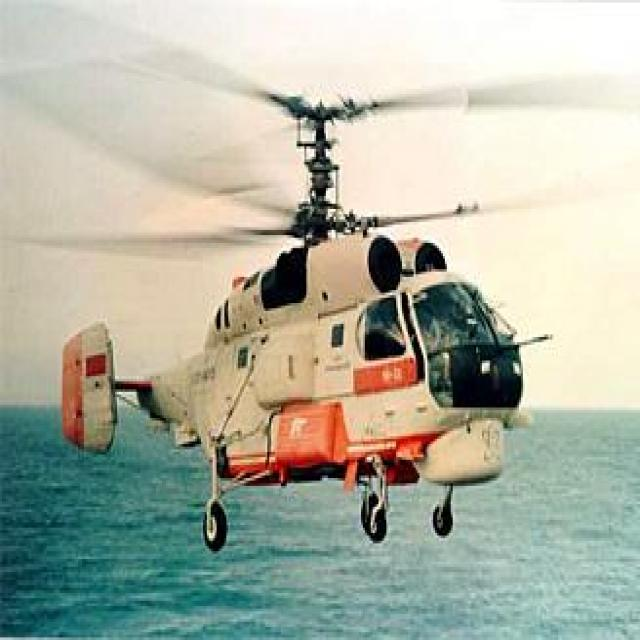MIL_HELO: (6, 0, 611, 555)
